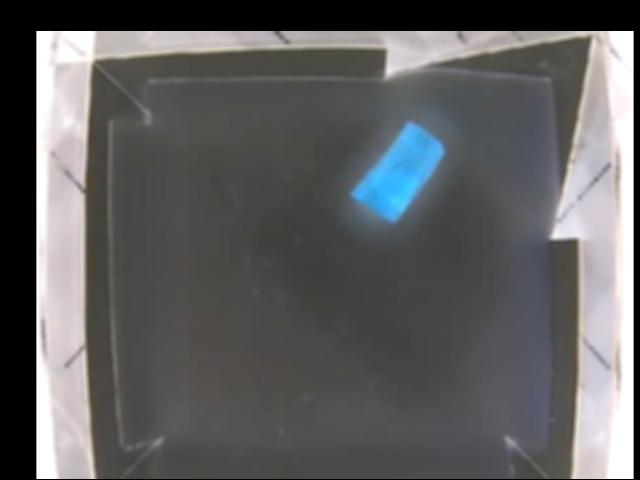Carrot: (350, 122, 448, 222)
